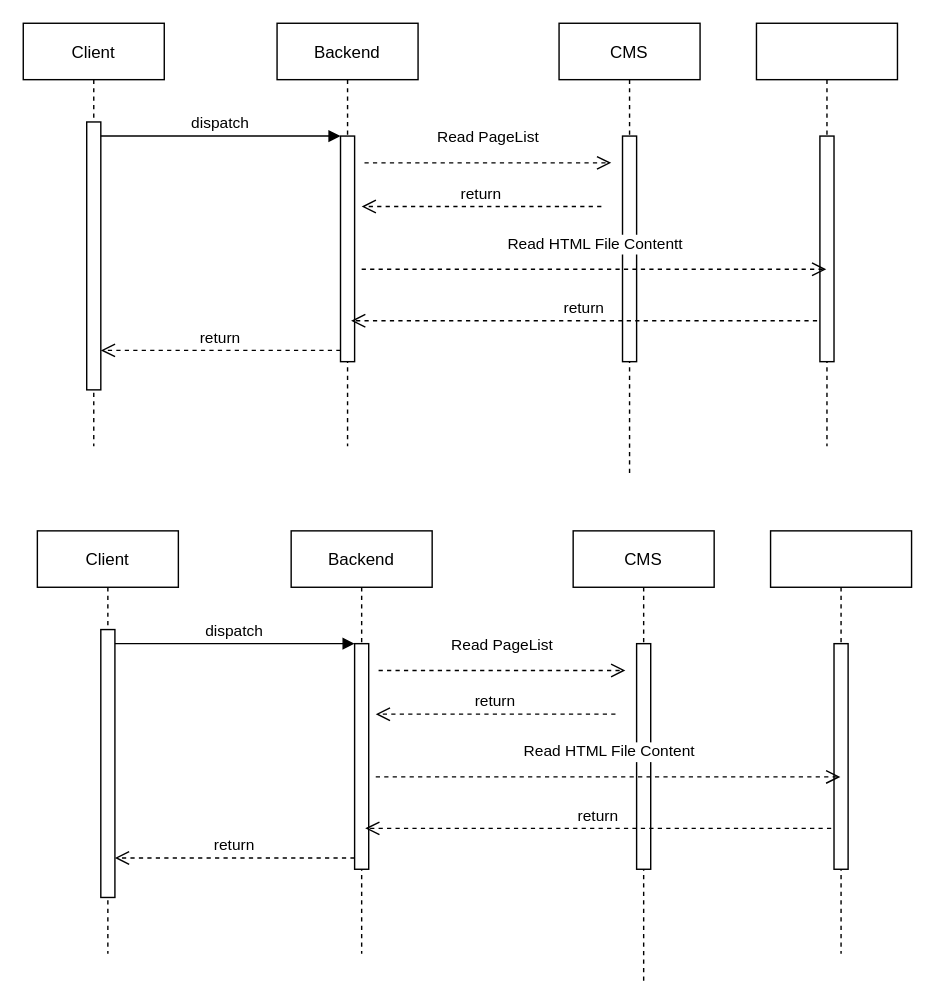
Image size: 935x1005. Some labels were removed from this diagram. The box of each missing label's shape, as (x1, y1, x2, y2) in pixels:
COS: (755, 22, 897, 446)
Node server: (769, 529, 912, 954)
